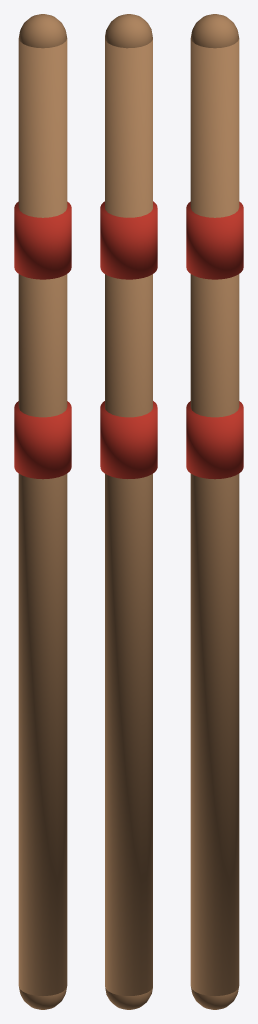
The model's file is tool_staff.glb.
The picture shows the model from 3 angles, left to right: view 1: azimuth 90°, elevation 25°; view 2: azimuth 210°, elevation 25°; view 3: azimuth 270°, elevation 25°; orthographic projection.
Parts seen in each view (by area): view 1: staff, mark.001, mark, staff_b, staff_a; view 2: staff, mark.001, mark, staff_b, staff_a; view 3: staff, mark.001, mark, staff_b, staff_a.
Boxes of the visible parts, x1,y1,x2,y2 form: staff: [18, 38, 67, 995]; mark.001: [14, 201, 71, 279]; mark: [14, 401, 71, 479]; staff_b: [19, 14, 66, 48]; staff_a: [19, 987, 66, 1009]; staff: [105, 39, 152, 995]; mark.001: [100, 201, 157, 279]; mark: [100, 401, 157, 478]; staff_b: [105, 14, 152, 48]; staff_a: [105, 987, 152, 1009]; staff: [190, 38, 239, 995]; mark.001: [186, 201, 243, 279]; mark: [186, 401, 243, 479]; staff_b: [191, 14, 238, 48]; staff_a: [191, 987, 238, 1009].
Bounding box in the file's own units: 0.052 × 0.994 × 0.052.
